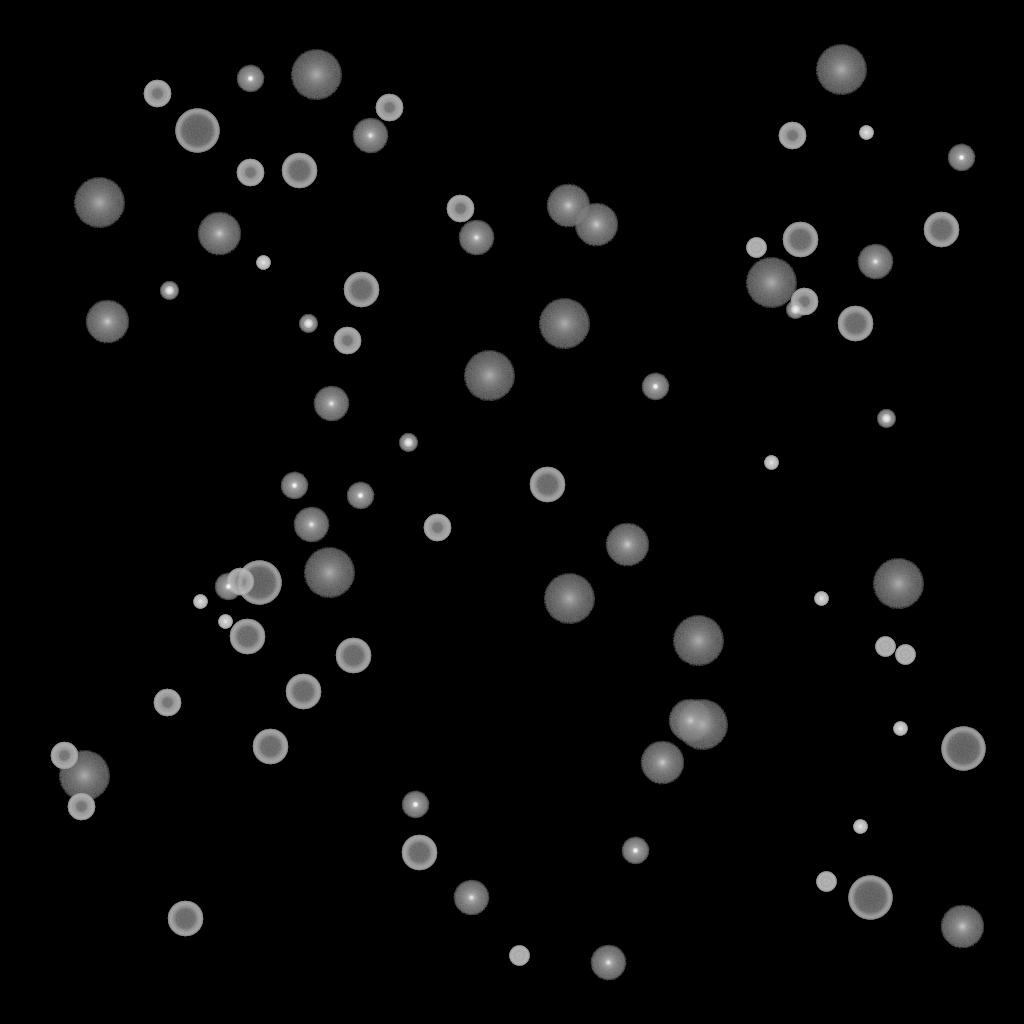depth:-10: (947, 144, 975, 172), (236, 65, 264, 93), (346, 482, 374, 510), (621, 837, 649, 865), (280, 472, 308, 500), (641, 373, 669, 401), (214, 573, 242, 601), (401, 791, 429, 819)
depth:-20: (877, 410, 895, 428), (786, 301, 804, 319), (399, 434, 417, 452), (299, 315, 317, 333), (160, 282, 178, 300)
depth:-30: (853, 820, 867, 834), (814, 592, 828, 606), (893, 722, 907, 736), (218, 615, 232, 629), (193, 595, 207, 609), (256, 256, 270, 270), (764, 456, 778, 470), (859, 126, 873, 140)
depth:-40: (875, 637, 895, 657), (895, 645, 915, 665), (509, 946, 529, 966), (816, 872, 836, 892), (746, 238, 766, 258)
depth:-50: (333, 327, 361, 355), (236, 159, 264, 187), (67, 793, 95, 821), (50, 742, 78, 770), (790, 288, 818, 316), (153, 689, 181, 717), (226, 568, 254, 596), (423, 514, 451, 542), (375, 94, 403, 122), (143, 80, 171, 108), (778, 122, 806, 150), (446, 195, 474, 223)
depth:-60: (529, 467, 565, 503), (837, 306, 873, 342), (782, 222, 818, 258), (335, 638, 371, 674), (923, 212, 959, 248), (229, 619, 265, 655), (401, 835, 437, 871), (167, 901, 203, 937), (281, 153, 317, 189), (343, 272, 379, 308), (252, 729, 288, 765), (285, 674, 321, 710)
depth:-70: (175, 109, 219, 153), (237, 561, 281, 605), (848, 876, 892, 920), (941, 727, 985, 771)
depth:0: (293, 507, 329, 543), (313, 386, 349, 422), (352, 118, 388, 154), (458, 220, 494, 256), (453, 880, 489, 916), (590, 945, 626, 981), (857, 244, 893, 280)
depth:10: (197, 212, 241, 256), (605, 523, 649, 567), (574, 203, 618, 247), (640, 741, 684, 785), (85, 300, 129, 344), (940, 905, 984, 949), (668, 699, 712, 743), (546, 184, 590, 228)
depth:20: (672, 616, 724, 666), (73, 178, 125, 228), (543, 574, 595, 624), (303, 548, 355, 598), (815, 45, 867, 95), (538, 299, 590, 349), (290, 50, 342, 100), (58, 751, 110, 801), (463, 351, 515, 401), (872, 559, 924, 609), (745, 258, 797, 308), (676, 700, 728, 750)
